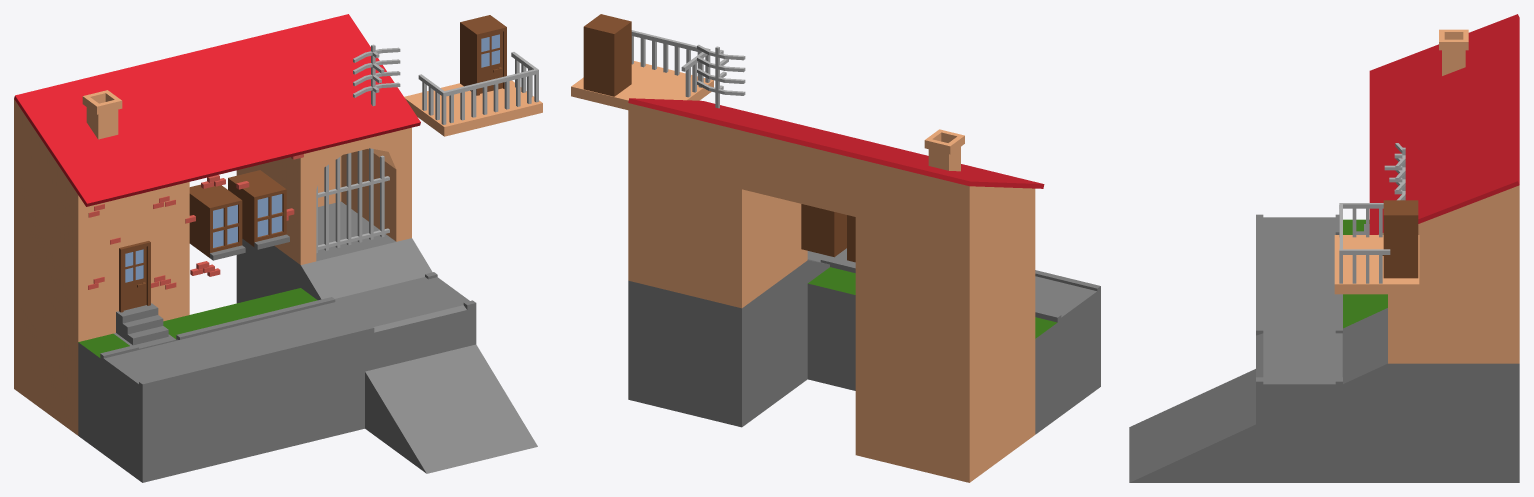
The model's file is CityElements.fbx.
The picture shows the model from 3 angles, left to right: view 1: azimuth 30°, elevation 25°; view 2: azimuth 150°, elevation 25°; view 3: azimuth 270°, elevation 25°; orthographic projection. The views are drawn at different scales.
Visible parts, largest first — view 1: Foundation_2, WalkWay_1, WalkWay_2, Base_1, Roof_2, Roof_3, Roof_1, Base_2, Foundation_1, WalkWay_3, Balcony, Windows (+4 smaller); view 2: Foundation_2, Base_1, Foundation_1, Base_2, Roof_2, Roof_3, Roof_1, WalkWay_1, Balcony, WalkWay_2, Windows; view 3: Foundation_2, Base_2, Roof_3, WalkWay_3, Roof_2, Roof_1, Balcony, WalkWay_2, WalkWay_1.
Part boxes in pixels (x1,y1,x2,y2): Foundation_2: [236, 201, 537, 473]; WalkWay_1: [78, 315, 253, 482]; WalkWay_2: [190, 288, 364, 455]; Base_1: [14, 156, 189, 319]; Roof_2: [14, 68, 198, 206]; Roof_3: [237, 14, 420, 152]; Roof_1: [126, 41, 309, 179]; Base_2: [236, 127, 411, 264]; Foundation_1: [14, 273, 189, 435]; WalkWay_3: [323, 272, 476, 371]; Balcony: [404, 15, 542, 136]; Windows: [189, 170, 289, 260]; Foundation_2: [628, 259, 829, 427]; Base_1: [855, 197, 1035, 363]; Foundation_1: [855, 316, 1035, 482]; Base_2: [628, 161, 807, 308]; Roof_2: [855, 129, 1044, 244]; Roof_3: [628, 44, 815, 189]; Roof_1: [742, 126, 928, 216]; WalkWay_1: [1035, 270, 1100, 434]; Balcony: [571, 14, 713, 109]; WalkWay_2: [807, 252, 855, 390]; Windows: [801, 204, 855, 262]; Foundation_2: [1129, 308, 1519, 482]; Base_2: [1388, 244, 1519, 363]; Roof_3: [1369, 125, 1519, 243]; WalkWay_3: [1256, 326, 1387, 482]; Roof_2: [1369, 14, 1519, 126]; Roof_1: [1369, 70, 1519, 181]; Balcony: [1334, 200, 1419, 294]; WalkWay_2: [1256, 270, 1387, 328]; WalkWay_1: [1256, 214, 1369, 272].
Bounding box in the file's own units: 789 × 534 × 592.
